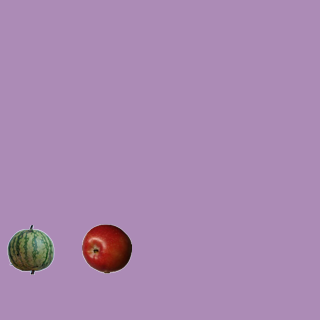Apple Braeburn: (81, 223, 131, 273)
Watermelon: (5, 224, 55, 274)
